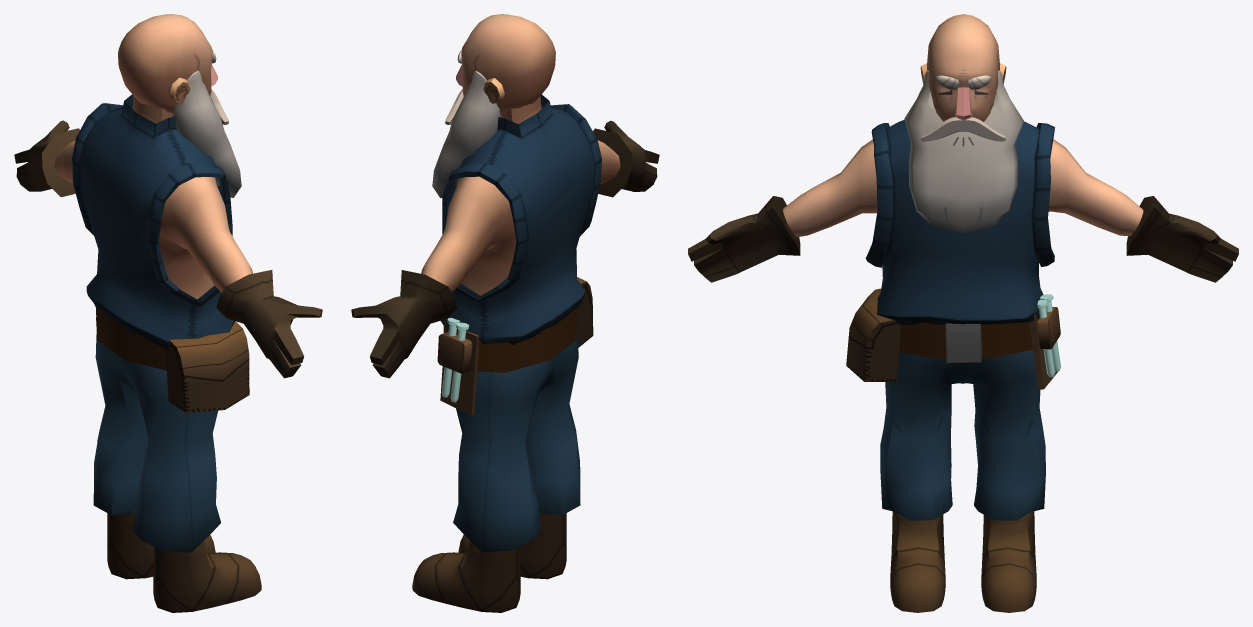
File: CharacterTex.fbx
The picture shows the model from 3 angles, left to right: view 1: azimuth 30°, elevation 25°; view 2: azimuth 150°, elevation 25°; view 3: azimuth 270°, elevation 25°; orthographic projection.
Visible parts, largest first — view 1: Belt_Bag.015; view 2: Belt_Bag.015; view 3: Belt_Bag.015.
Boxes of the visible parts, <box> form: Belt_Bag.015: <box>14,14,322,612</box>; Belt_Bag.015: <box>351,14,659,612</box>; Belt_Bag.015: <box>688,14,1238,612</box>.
Size of the model in its own units: 123 by 510 by 454.
